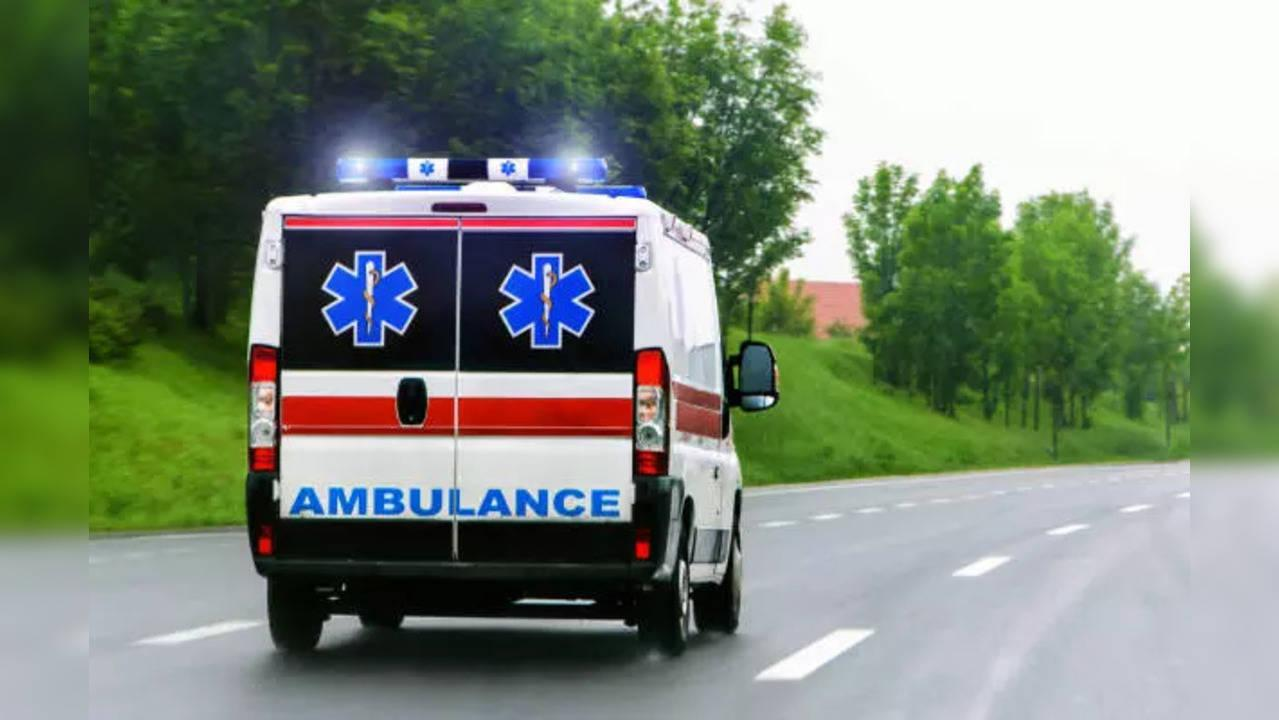ER: (247, 156, 770, 652)
